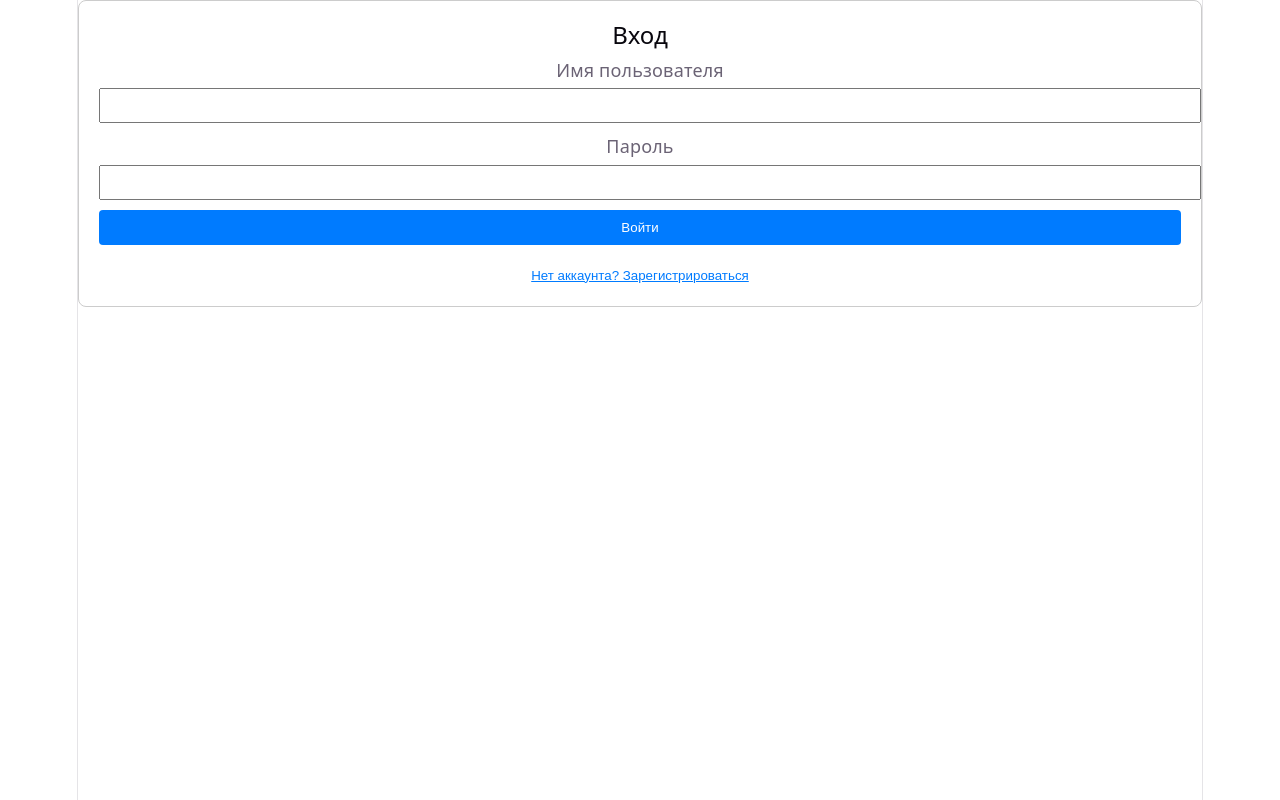
Test: Auth Component › shows generic error message on network failure
Type "testuser" into the field with test id "username-input" at (650, 106), box 99,88 -> 1201,123
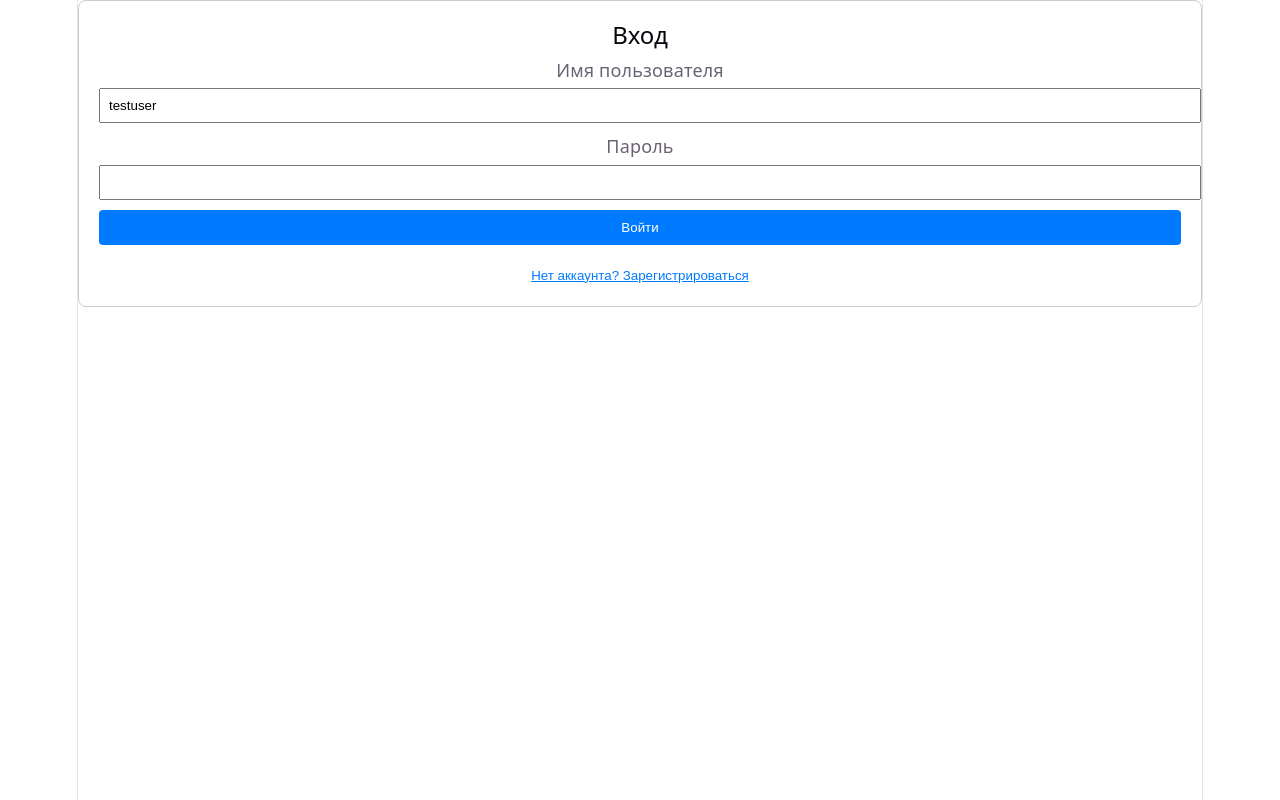
Type "password123" into the password field with test id "password-input" at (650, 182), box 99,164 -> 1201,200
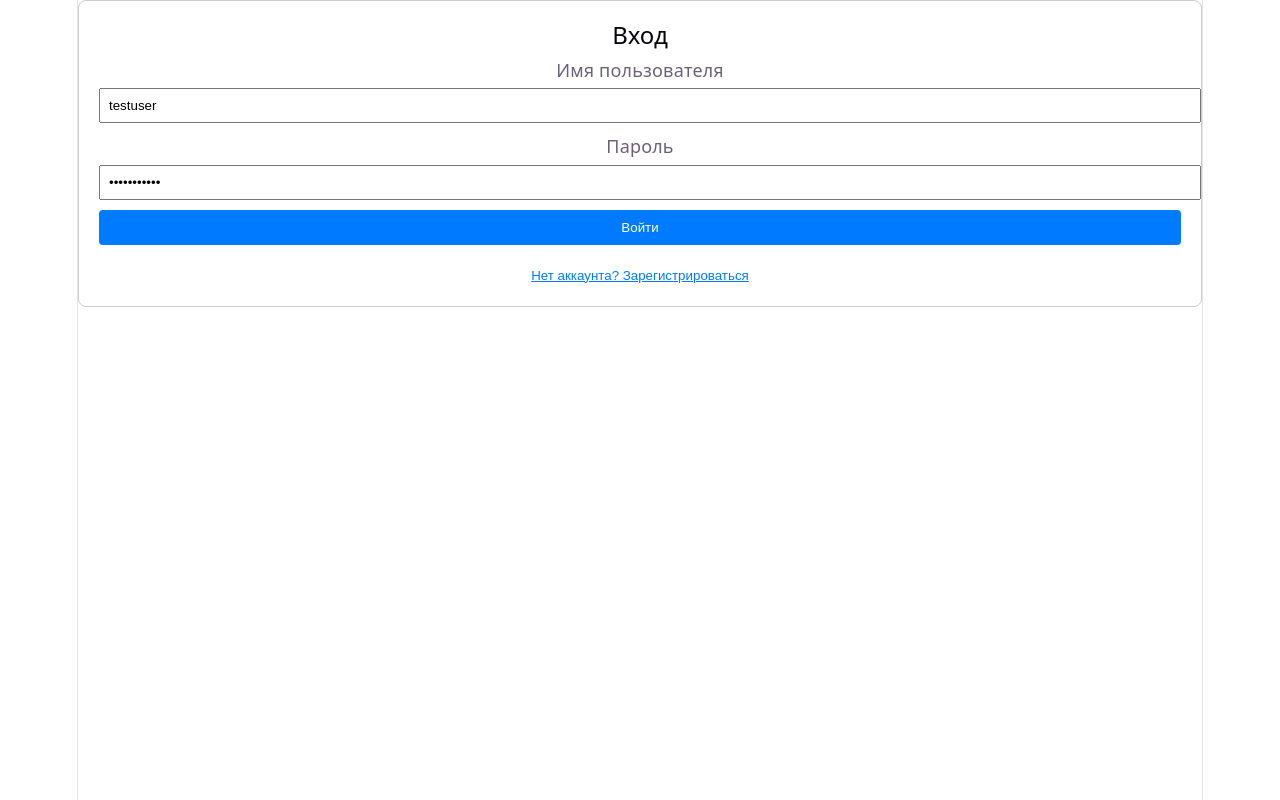
Click the button with test id "submit-button" at (640, 227), box 99,210 -> 1181,244
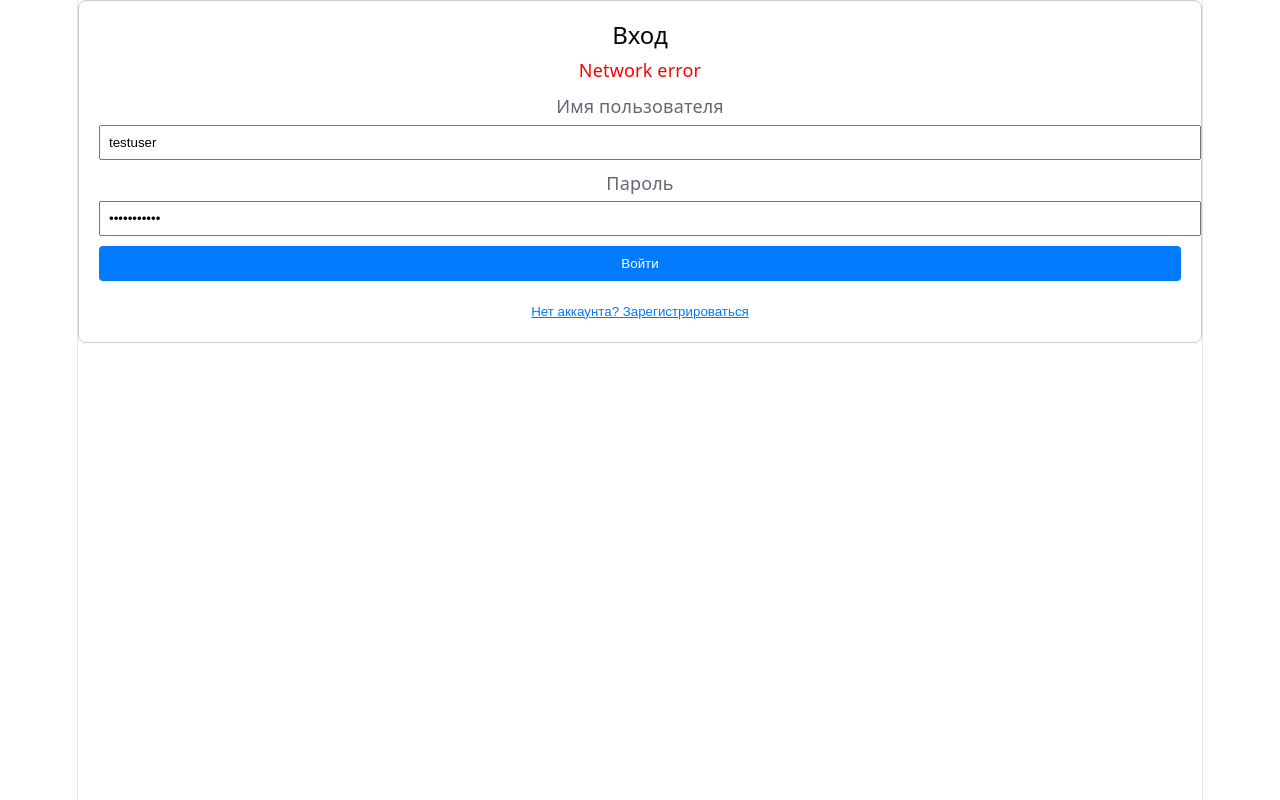
expect the text "Network error" is shown: met, box 579,58 -> 701,82
